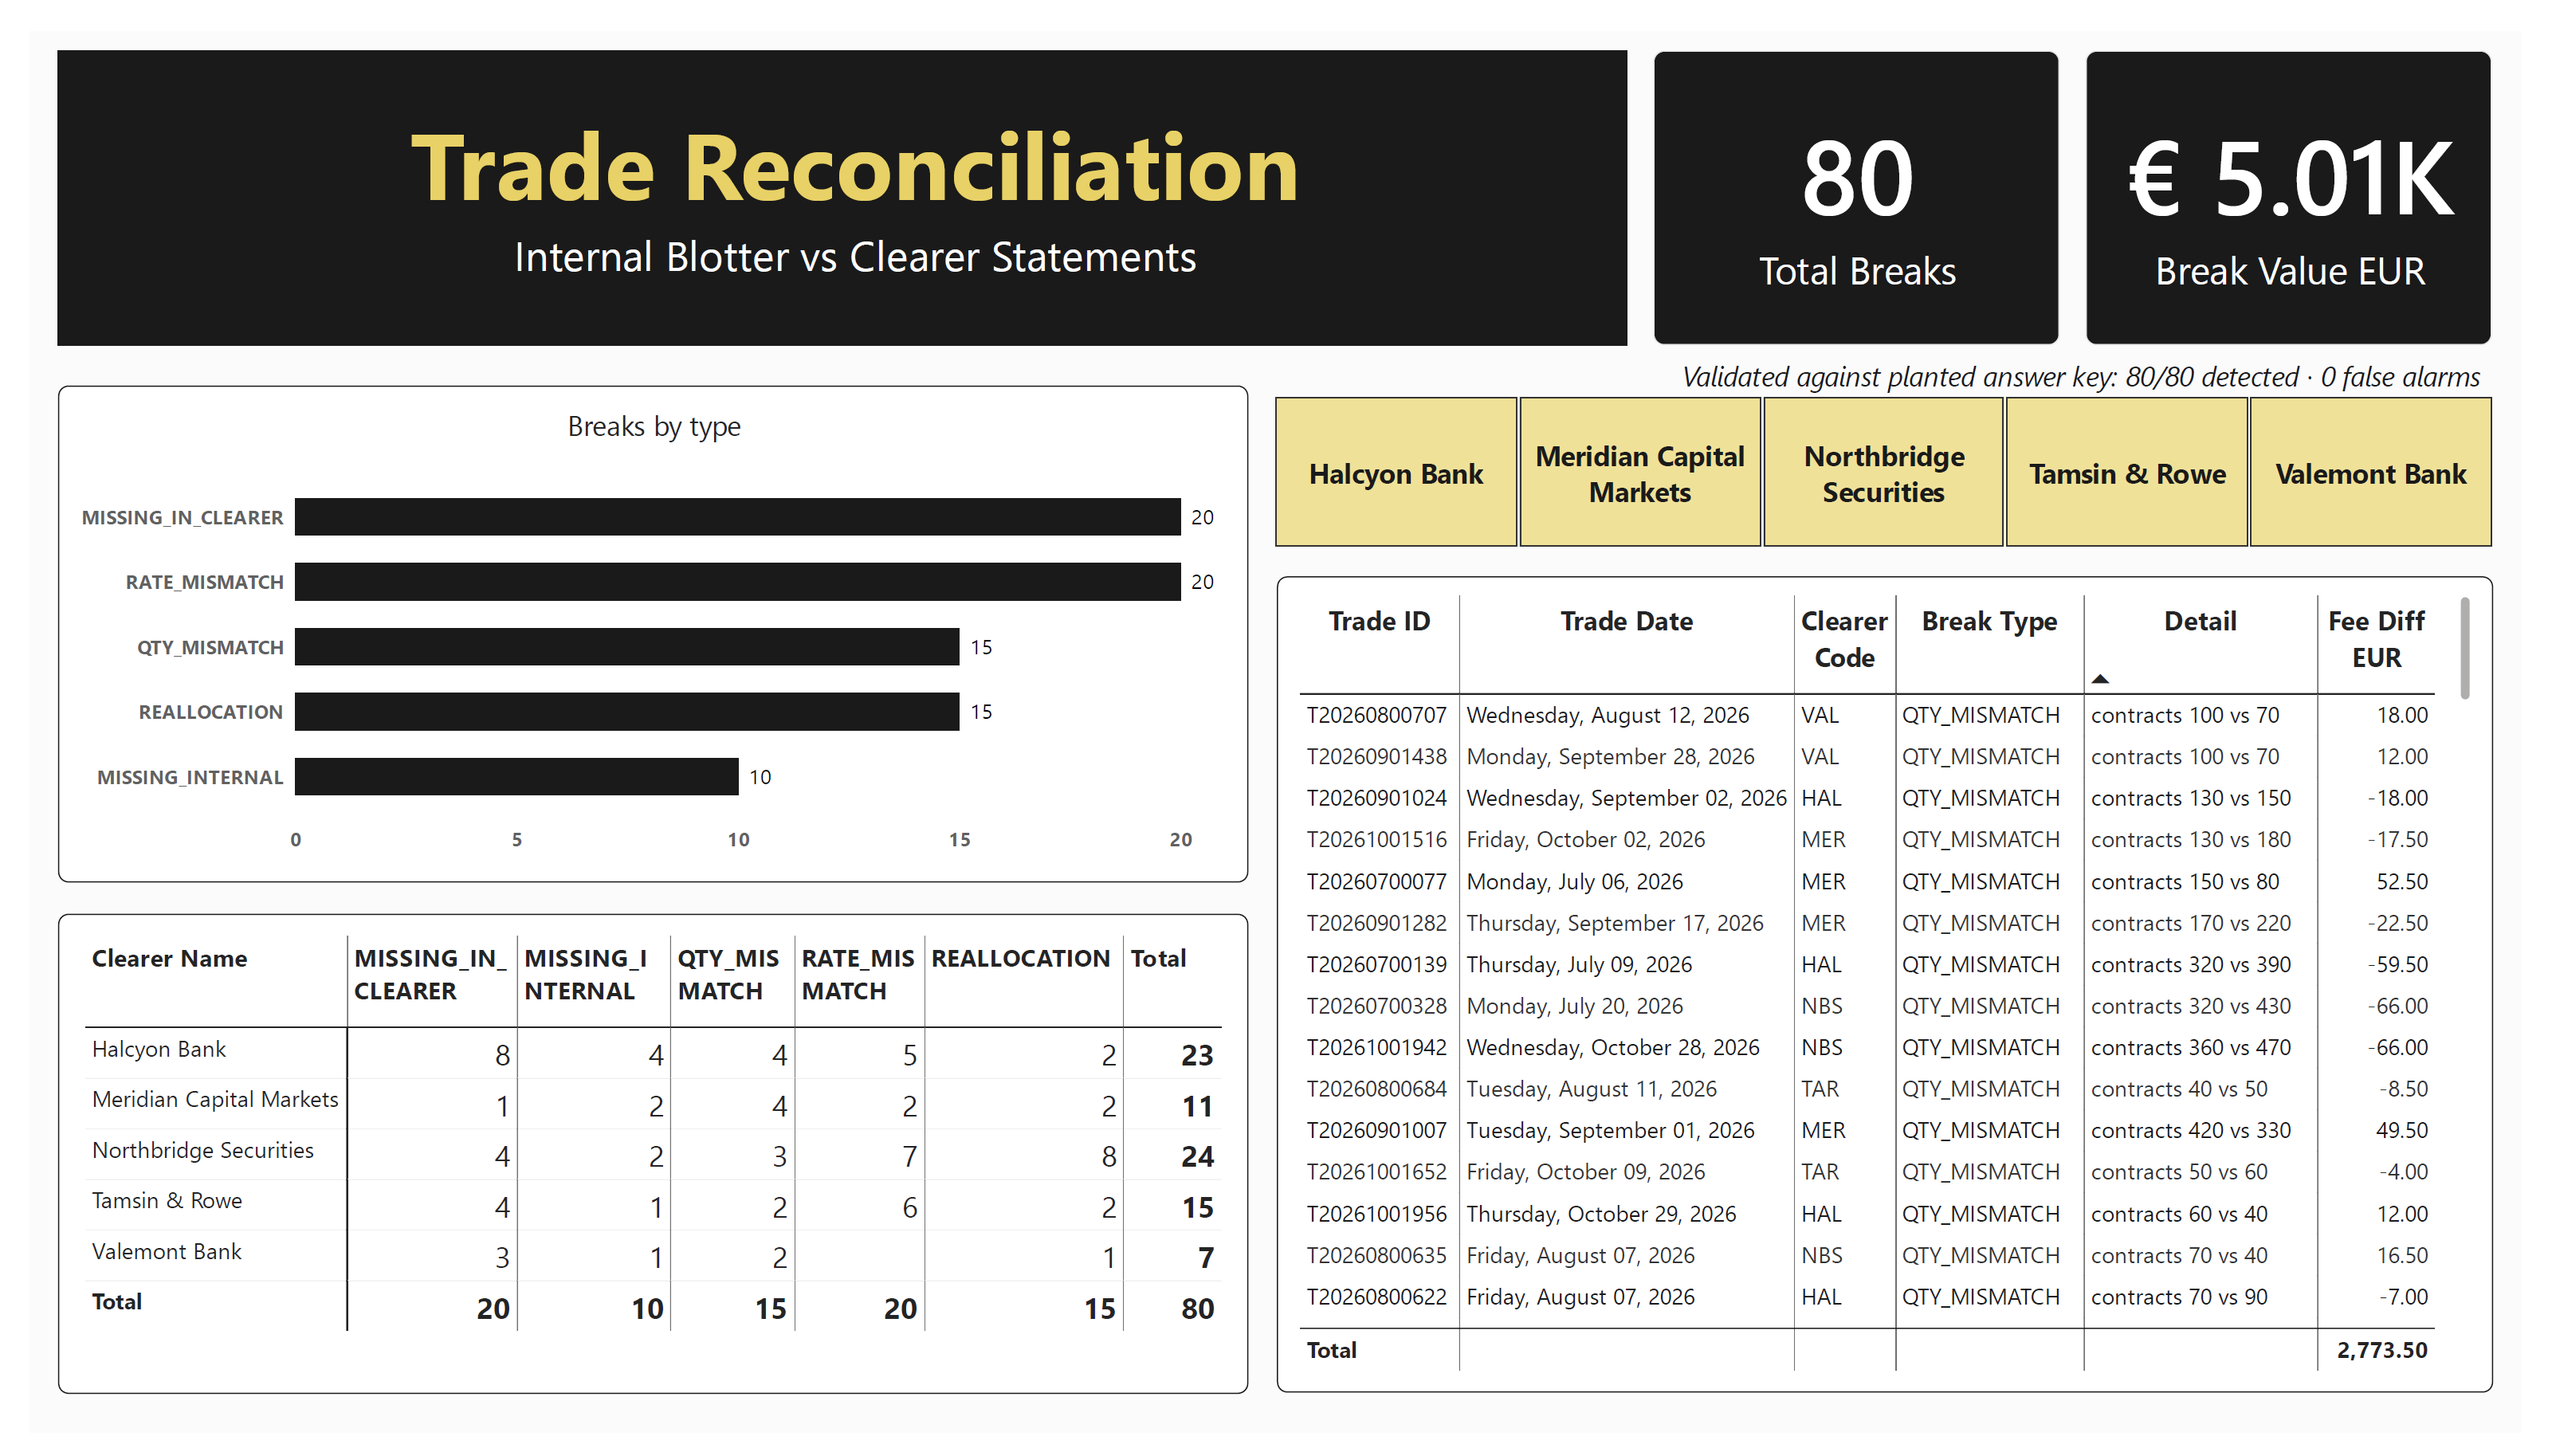

The page's visual inventory and layout, read from the dashboard file:
{"tool":"powerbi","page":{"name":"Reconciliation","canvas":[1920,1080],"ordinal":0},"visuals":[{"type":"cardVisual","fields":{"Data":["_Measures.Break Value EUR"]},"box":[1584.2,15.1,313,227.2],"z":0},{"type":"cardVisual","fields":{"Data":["_Measures.Total Breaks"]},"box":[1250.9,15.1,313.8,227.2],"z":1000},{"type":"textbox","box":[21.6,15.1,1209.8,227.2],"z":2000},{"type":"slicer","fields":{"Values":["clearers.clearer_name"]},"box":[938.7,272.4,977.3,134.4],"z":3000},{"type":"clusteredBarChart","title":"Breaks by type","fields":{"Category":["recon_breaks.break_type"],"Y":["_Measures.Total Breaks"]},"box":[21.6,272.7,917.6,383.1],"z":4000},{"type":"pivotTable","fields":{"Columns":["recon_breaks.break_type"],"Rows":["clearers.clearer_name"],"Values":["_Measures.Total Breaks"]},"box":[21.6,679.5,917.6,370.1],"z":5000},{"type":"tableEx","fields":{"Values":["recon_breaks.trade_id","recon_breaks.trade_date.Variation.Date Hierarchy.Month","recon_breaks.clearer_code","recon_breaks.break_type","recon_breaks.detail","Sum(recon_breaks.fee_diff_eur)"]},"box":[960.7,419.6,936.8,629.5],"z":6000},{"type":"textbox","box":[1216.7,250,671.7,36.7],"z":7000}]}

Visuals, with their boxes in screenshot pixels (x1, y1, x2, y2), scaled from the page's 1920x1080 canvas onto the 2552x1456 screenshot:
cardVisual - _Measures.Break Value EUR: {"x1": 2106, "y1": 21, "x2": 2522, "y2": 327}
cardVisual - _Measures.Total Breaks: {"x1": 1663, "y1": 21, "x2": 2079, "y2": 327}
textbox: {"x1": 29, "y1": 21, "x2": 1637, "y2": 327}
slicer - clearers.clearer_name: {"x1": 1247, "y1": 367, "x2": 2546, "y2": 548}
"Breaks by type" clusteredBarChart: {"x1": 29, "y1": 367, "x2": 1248, "y2": 884}
pivotTable - recon_breaks.break_type x clearers.clearer_name: {"x1": 29, "y1": 916, "x2": 1248, "y2": 1415}
tableEx - recon_breaks.trade_id x recon_breaks.trade_date.Variation.Date Hierarchy.Month: {"x1": 1277, "y1": 566, "x2": 2522, "y2": 1415}
textbox: {"x1": 1617, "y1": 337, "x2": 2510, "y2": 387}
